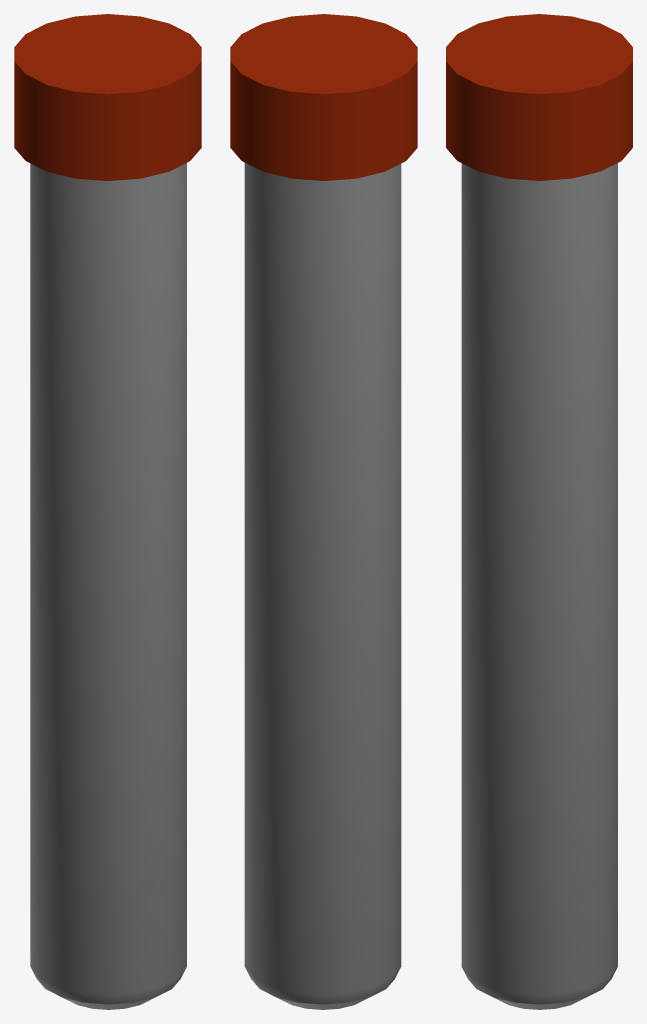
File: Tube samples.FBX
3 views of the same model, side by side, from view 1: azimuth 30°, elevation 25°; view 2: azimuth 150°, elevation 25°; view 3: azimuth 270°, elevation 25° (orthographic).
Parts seen in each view (by area): view 1: tube samples; view 2: tube samples; view 3: tube samples.
Part boxes in pixels (left/top/right/bottom): tube samples: left=14, top=14, right=201, bottom=1009; tube samples: left=230, top=14, right=417, bottom=1009; tube samples: left=446, top=14, right=632, bottom=1009.
Bounding box in the file's own units: 3.3 × 17.91 × 3.25.
